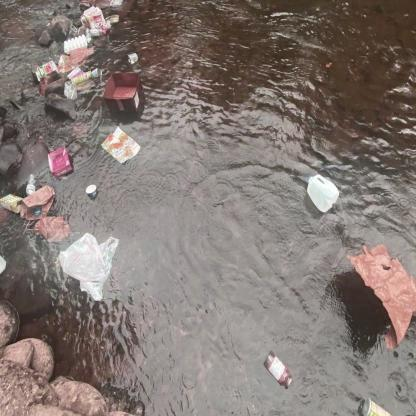Glass: (262, 350, 294, 391)
Metal: (62, 69, 94, 97), (357, 398, 398, 416)
Plastic: (57, 227, 121, 301), (305, 168, 342, 210), (81, 6, 120, 38), (23, 172, 37, 197), (126, 51, 140, 64), (0, 253, 7, 278)
Trash: (344, 243, 416, 355), (0, 184, 58, 223), (100, 124, 142, 164), (60, 36, 99, 67), (32, 217, 72, 246), (83, 182, 99, 202)
